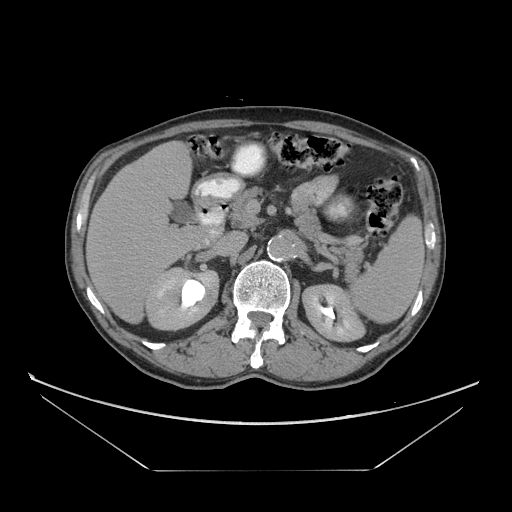left_kidney: (138, 259, 219, 329)
right_kidney: (296, 274, 368, 341)
